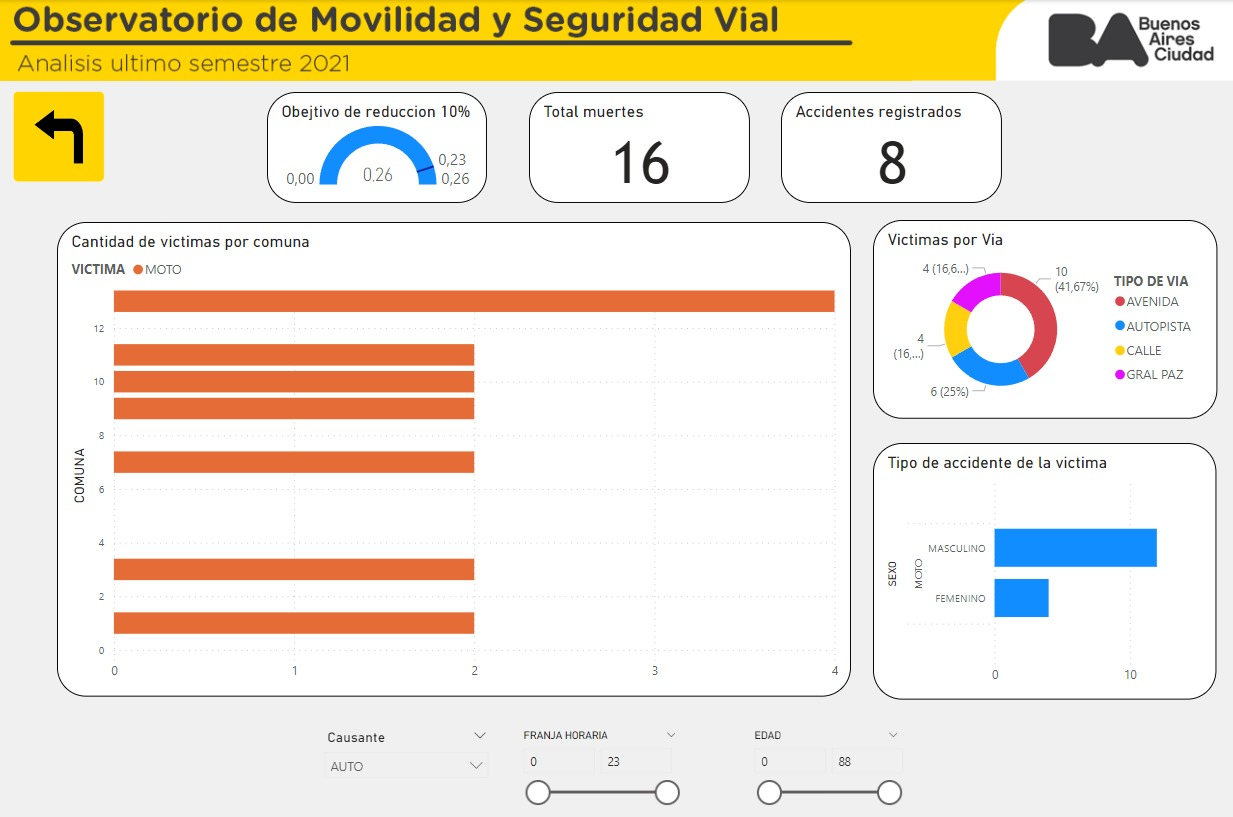

What the dashboard file says about the page in this screenshot:
{"tool":"powerbi","page":{"name":"Informe Homicidios","canvas":[1280,720],"ordinal":1},"visuals":[{"type":"image","box":[0,90,120,104.4],"z":0},{"type":"actionButton","title":"Borrar Segmentaciones","box":[1036.7,123.4,243.3,36.7],"z":1000},{"type":"card","title":"Total muertes","fields":{"Values":["Sum(HECHOS N.CANTIDAD VICTIMAS)"]},"box":[527.8,93.3,228.9,101.1],"z":2000},{"type":"card","title":"Accidentes registrados","fields":{"Values":["CountNonNull(HECHOS N.ID_hecho)"]},"box":[788.9,93.3,228.9,101.1],"z":3000},{"type":"kpi","title":"Reducción del 10% la Tasa de Víctimas del Último Semestre","fields":{"Indicator":["Medidas.TasaVictimasUltimoSemestre"],"Goal":["Medidas.ObjetivoVictimasSemestre"],"TrendLine":["HECHOS N.FECHA.Variación.Jerarquía de fechas.Año"]},"box":[271.1,93.3,228.9,101.1],"z":4000},{"type":"donutChart","title":"Victimas por Via","fields":{"Category":["HECHOS N.TIPO DE VIA"],"Y":["Sum(HECHOS N.CANTIDAD VICTIMAS)"]},"box":[905.4,207.8,356.7,205.6],"z":5000},{"type":"slicer","fields":{"Values":["HECHOS N.FRANJA HORARIA"]},"box":[13.3,581,243.3,118.9],"z":6000},{"type":"columnChart","title":"Tipo de accidente de la victima","fields":{"Y":["CountNonNull(HECHOS N.TIPO DE VIA)"],"Category":["HECHOS N.VICTIMA"],"Series":["HECHOS N.VICTIMA"]},"box":[905.4,433.3,356.7,266.7],"z":7000},{"type":"slicer","fields":{"Values":["HECHOS N.ACUSADO"]},"box":[13.3,338.9,243.3,225.6],"z":8000},{"type":"barChart","fields":{"Category":["HECHOS N.COMUNA","HECHOS N.TIPO DE VIA"],"Y":["Sum(HECHOS N.CANTIDAD VICTIMAS)"],"Series":["HECHOS N.VICTIMA"]},"box":[271.1,207.8,608.9,492.2],"z":9000},{"type":"slicer","fields":{"Values":["VICTIMAS N.EDAD"]},"box":[13.3,205.6,243.3,118.9],"z":10000}]}

Visuals, with their boxes on the page's 1280x720 design canvas (x1, y1, x2, y2). These are canvas units, not pixel positions in the 1233x817 screenshot, which may show the page scaled, cropped or inside an application window:
image: (0,90,120,194)
"Borrar Segmentaciones" actionButton: (1037,123,1280,160)
"Total muertes" card: (528,93,757,194)
"Accidentes registrados" card: (789,93,1018,194)
"Reducción del 10% la Tasa de Víctimas del Último Semestre" kpi: (271,93,500,194)
"Victimas por Via" donutChart: (905,208,1262,413)
slicer - HECHOS N.FRANJA HORARIA: (13,581,257,700)
"Tipo de accidente de la victima" columnChart: (905,433,1262,700)
slicer - HECHOS N.ACUSADO: (13,339,257,564)
barChart - HECHOS N.COMUNA x HECHOS N.TIPO DE VIA: (271,208,880,700)
slicer - VICTIMAS N.EDAD: (13,206,257,324)
